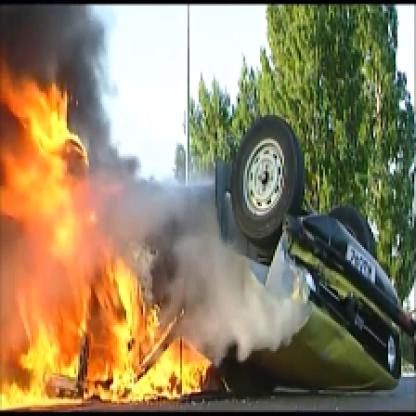Fire: (2, 52, 223, 414)
